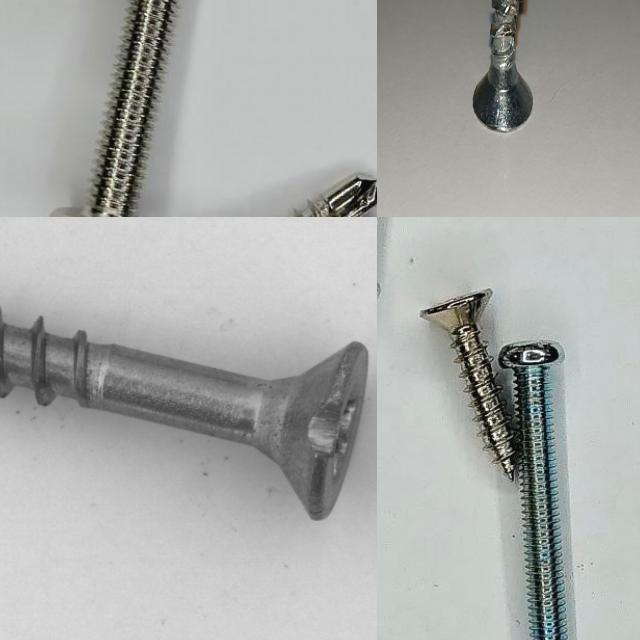Screw: (0, 221, 377, 533), (52, 0, 176, 217), (499, 341, 570, 640), (420, 288, 516, 479), (473, 0, 533, 131), (293, 175, 377, 217)
